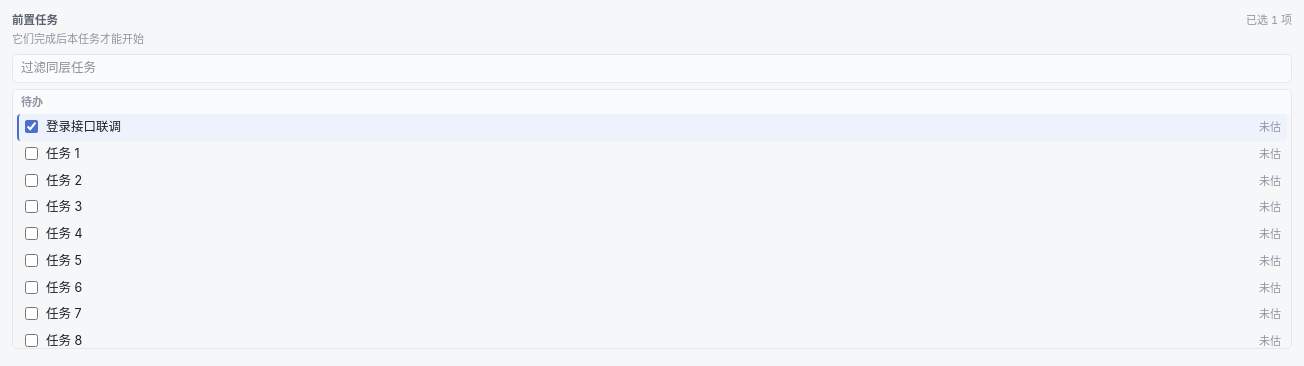
DependencySection › 候选超过 8 条才有过滤框，过滤只减少显示行，不改已选数量
Type "登录" into the field labelled "过滤同层任务" at x=652, y=68, box [12,54,1292,83]
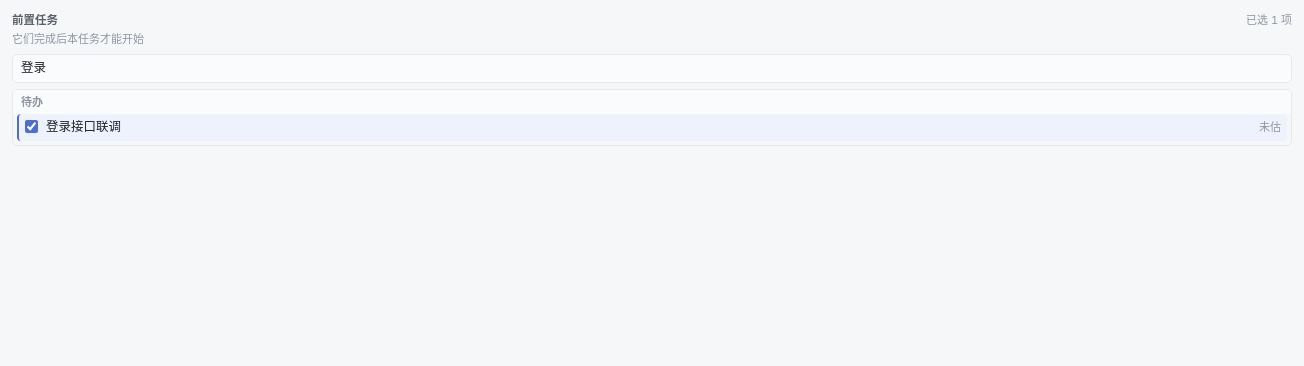
Expected: the checkbox labelled "登录接口联调 未估" is shown, [25,120,38,133]
Result: the text "任务 3" is gone
